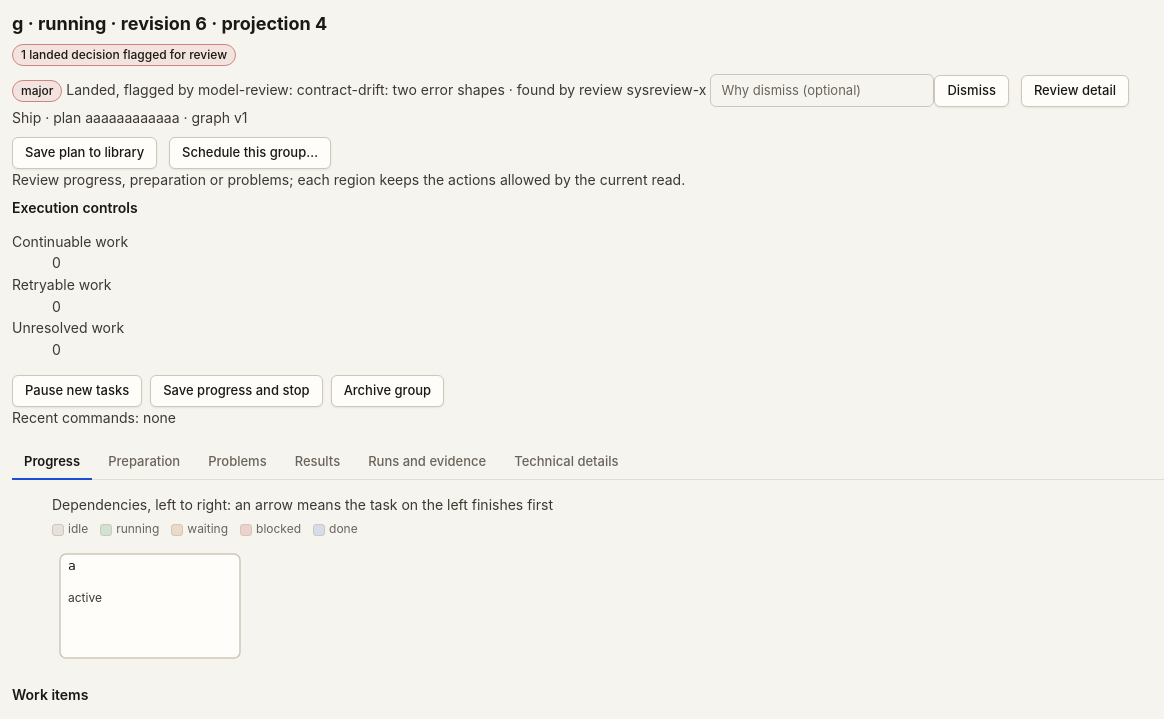
Scenario: dismissing a model-review finding (spec §6.5, §6.6, criterion 11, review focus 5) › opens the REVIEW group's detail from an involved group's finding
Click the button "Review detail".
click(1075, 91)  # box [1021,75,1129,107]
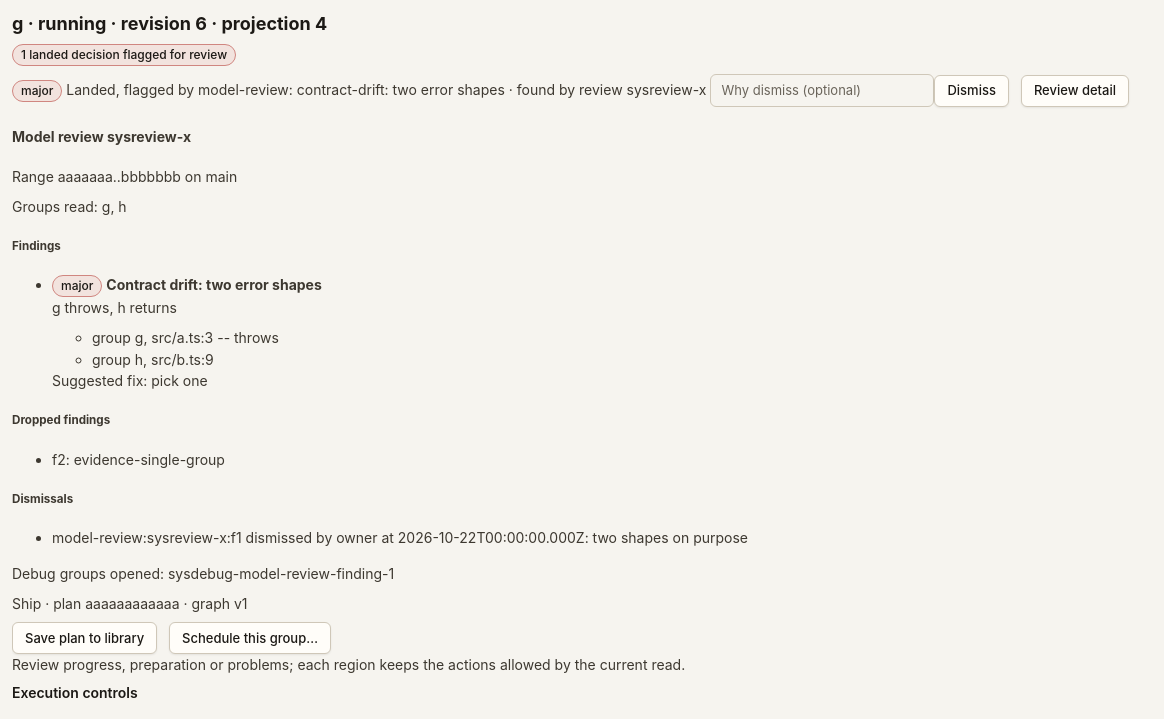
Now the list item with test id "review-finding-f1" shows "two error shapes", box [206,276,322,293]
